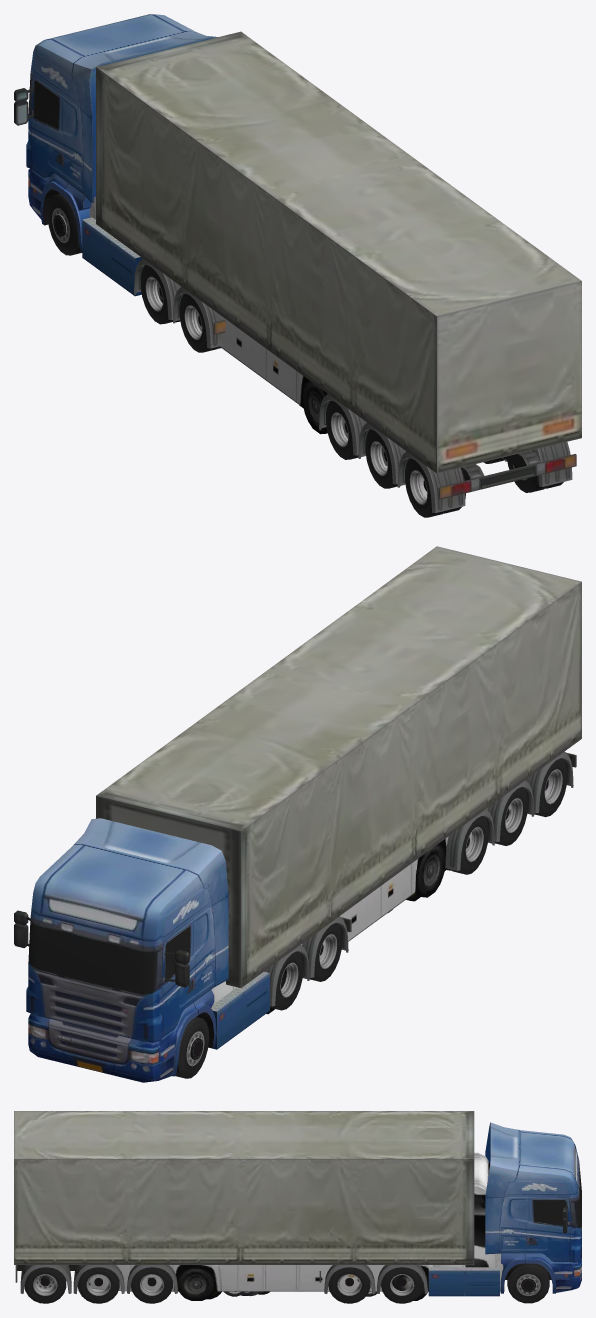
The model's file is traffic.glb.
3 renders of one model, top to bottom at view 1: azimuth 30°, elevation 25°; view 2: azimuth 150°, elevation 25°; view 3: azimuth 270°, elevation 25°, orthographic. The views are drawn at different scales.
Visible parts, largest first — view 1: TRAFFIC_semi_0_LOD0, TRAFFIC_bus_0_LOD0; view 2: TRAFFIC_semi_0_LOD0, TRAFFIC_bus_0_LOD0; view 3: TRAFFIC_semi_0_LOD0, TRAFFIC_bus_0_LOD0.
Part boxes in pixels (left/top/right/bottom): TRAFFIC_semi_0_LOD0: left=14, top=14, right=581, bottom=517; TRAFFIC_bus_0_LOD0: left=89, top=197, right=387, bottom=466; TRAFFIC_semi_0_LOD0: left=14, top=546, right=581, bottom=1082; TRAFFIC_bus_0_LOD0: left=211, top=804, right=511, bottom=1014; TRAFFIC_semi_0_LOD0: left=14, top=1111, right=581, bottom=1303; TRAFFIC_bus_0_LOD0: left=81, top=1152, right=504, bottom=1300.
Size of what is drawn, in the model's own units: 3.81 by 4.57 by 16.
Materials: 24 (19 with a texture image).
